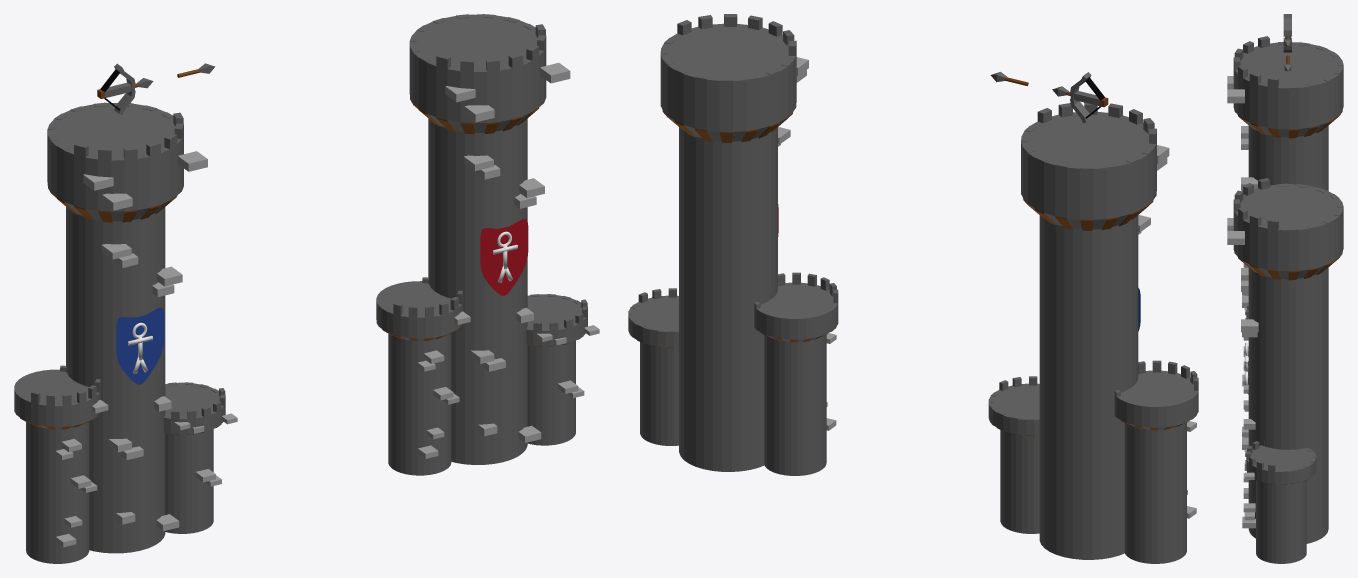
File: TD_Towers.glb
3 views of the same model, side by side, from view 1: azimuth 30°, elevation 25°; view 2: azimuth 150°, elevation 25°; view 3: azimuth 270°, elevation 25° (orthographic). The views are drawn at different scales.
Visible parts, largest first — view 1: Red Tower, Blue Tower, Crossbow; view 2: Red Tower, Blue Tower, Crossbow; view 3: Red Tower, Blue Tower, Crossbow.
Boxes of the visible parts, x1,y1,x2,y2 form: Red Tower: [376, 14, 599, 475]; Blue Tower: [14, 102, 237, 563]; Crossbow: [97, 63, 153, 114]; Red Tower: [628, 14, 838, 475]; Blue Tower: [988, 102, 1198, 563]; Crossbow: [1052, 72, 1108, 123]; Red Tower: [1227, 178, 1343, 563]; Blue Tower: [1227, 36, 1343, 386]; Crossbow: [1283, 14, 1291, 52].
Bounding box in the file's own units: 13.04 × 10.34 × 2.91.
